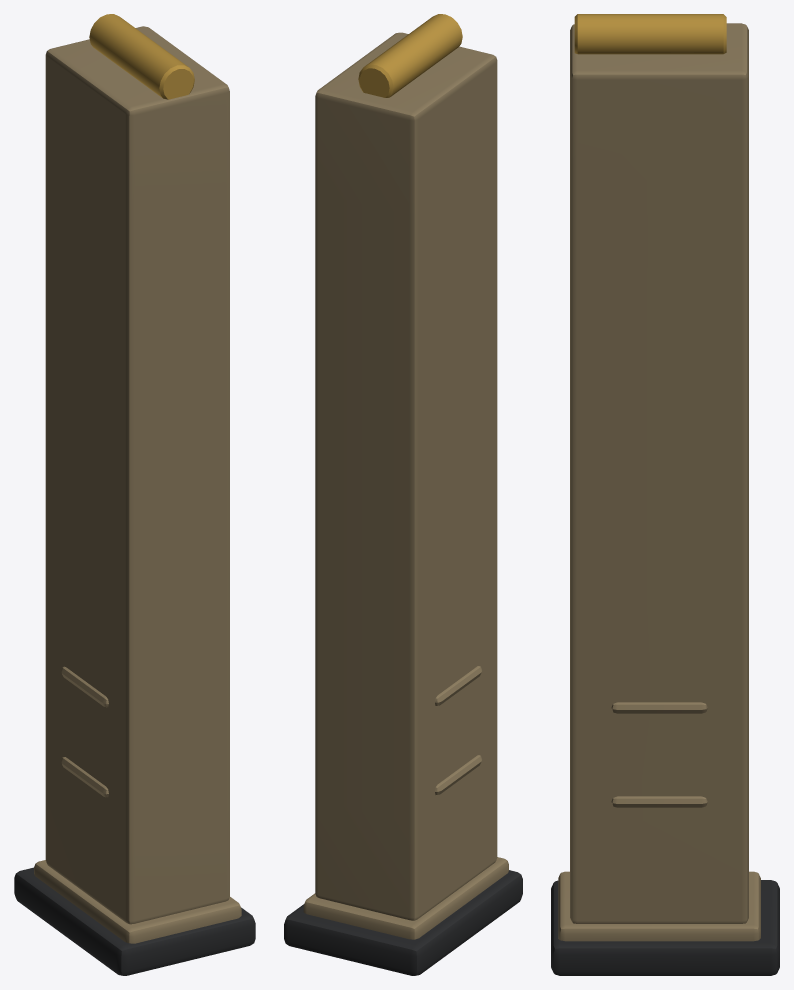
The model's file is mod_wasp_extended_mag.glb.
3 renders of one model, left to right at view 1: azimuth 30°, elevation 25°; view 2: azimuth 150°, elevation 25°; view 3: azimuth 270°, elevation 25°, orthographic. The views are drawn at different scales.
Visible parts, largest first — view 1: Magazine, MagazinePad, MagazineRound; view 2: Magazine, MagazinePad, MagazineRound; view 3: Magazine, MagazinePad, MagazineRound.
Part boxes in pixels (box(x1,y1,x2,y2)): Magazine: box(34, 26, 241, 943); MagazinePad: box(14, 867, 255, 975); MagazineRound: box(89, 14, 194, 99); Magazine: box(303, 32, 508, 939); MagazinePad: box(284, 870, 522, 975); MagazineRound: box(358, 14, 462, 97); Magazine: box(558, 23, 760, 941); MagazinePad: box(551, 880, 779, 975); MagazineRound: box(574, 14, 726, 54).
Size of the model in its own units: 0.028 by 0.1718 by 0.0384.
